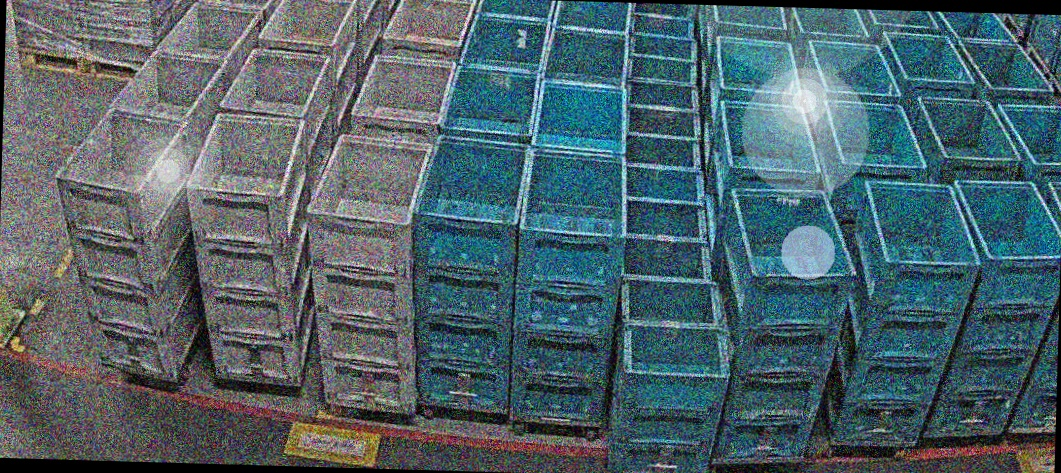4G: (48, 106, 207, 383), (181, 114, 322, 385), (300, 132, 433, 412)
B4: (823, 179, 983, 444), (716, 187, 860, 462), (921, 178, 1061, 442), (407, 134, 529, 414), (512, 148, 628, 428)
B8: (609, 278, 733, 473)
